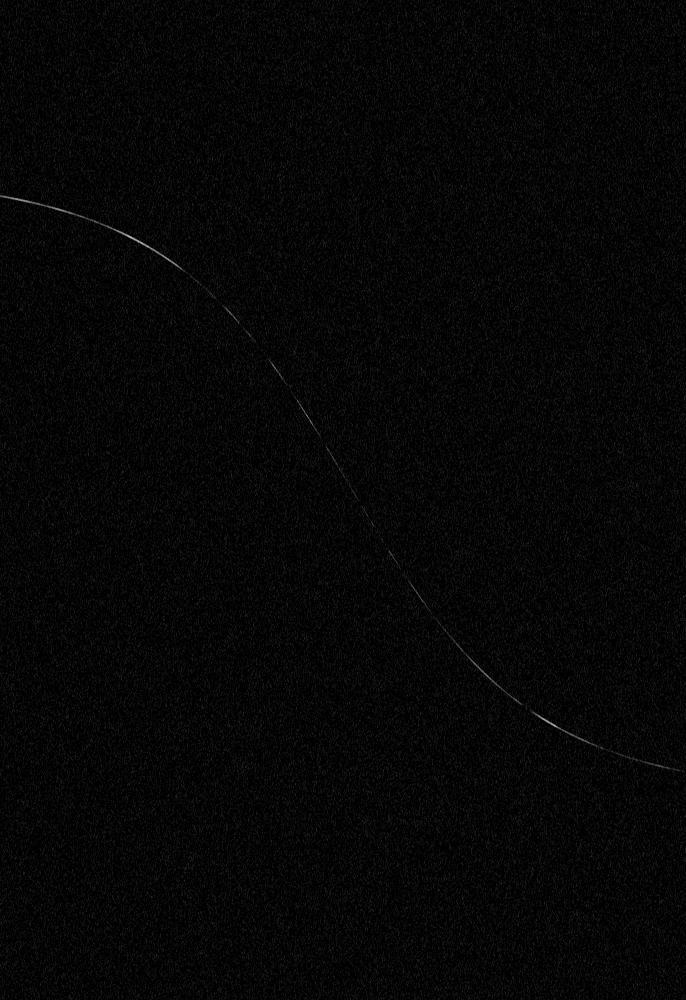signal: (0, 0, 685, 999)
